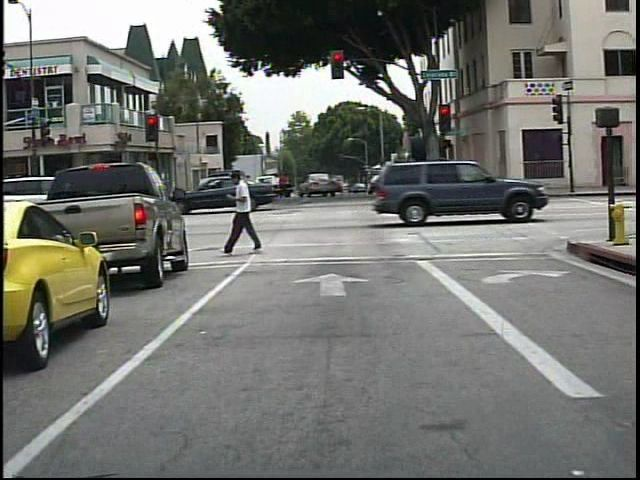person: (225, 166, 268, 256), (272, 164, 299, 208)
